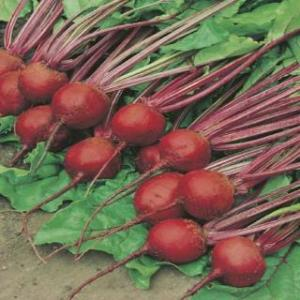beet: (132, 222, 212, 264), (207, 232, 269, 284), (57, 78, 117, 130), (62, 138, 128, 183), (179, 167, 235, 219), (134, 172, 182, 226), (154, 129, 212, 173), (112, 105, 169, 146), (15, 102, 60, 152), (22, 62, 66, 100)
